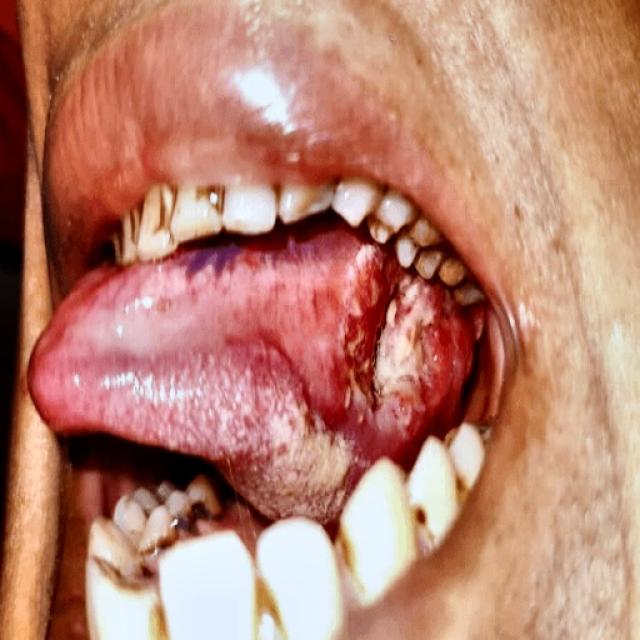leukoplakia-like-detection: (154, 241, 464, 528)
processing_area: (32, 230, 468, 516)
